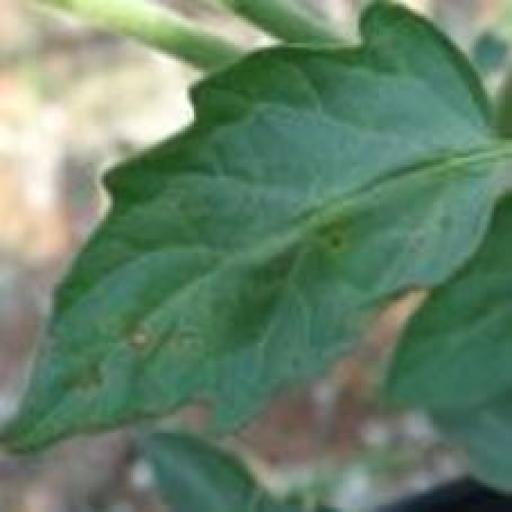Bacterial Spot: (0, 0, 505, 458)
